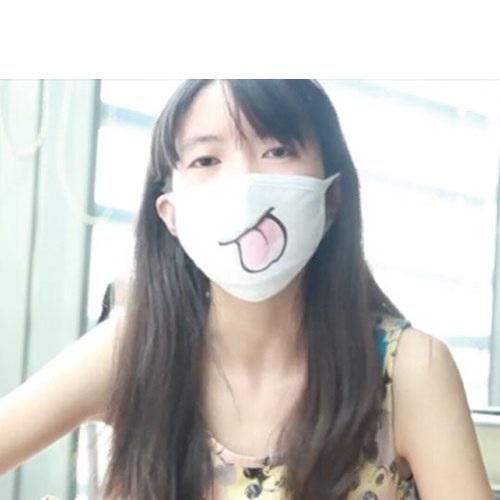OK: (170, 120, 330, 292)
